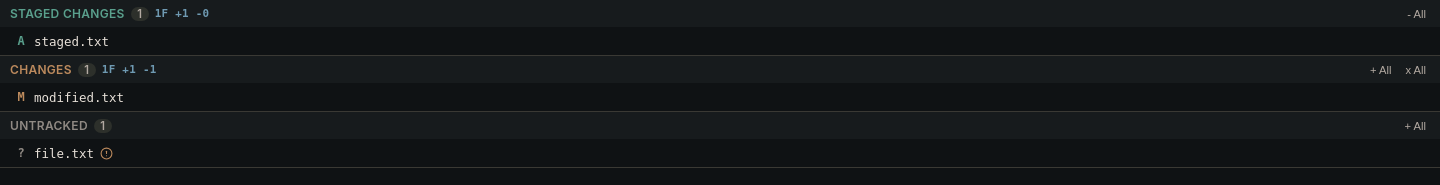
StagingFileSections file previews › shows a focusable recommendation only for an eligible unconfigured file and keeps the viewer available
Click the picture with class "staging-lfs-recommendation" at {"x": 107, "y": 153}, box [100,146,113,160]
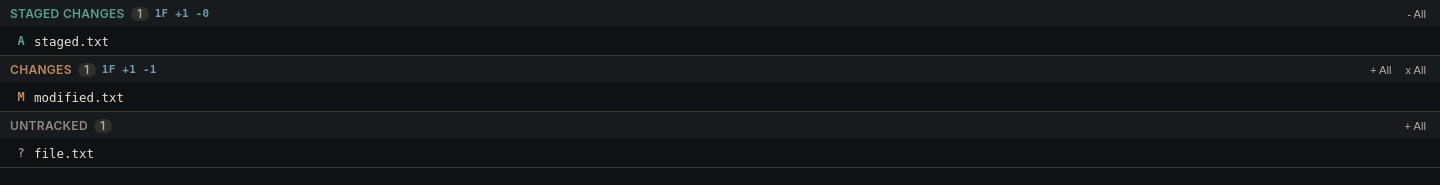
expect the picture with class "staging-lfs-recommendation" is gone: met
